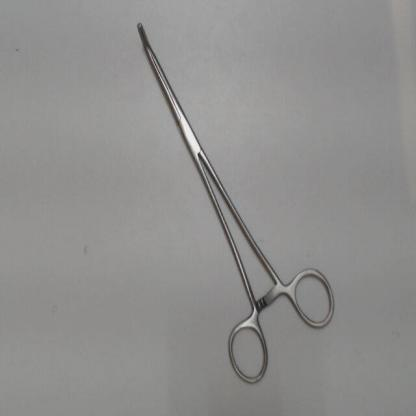Lahey Forceps: (127, 8, 338, 393)
